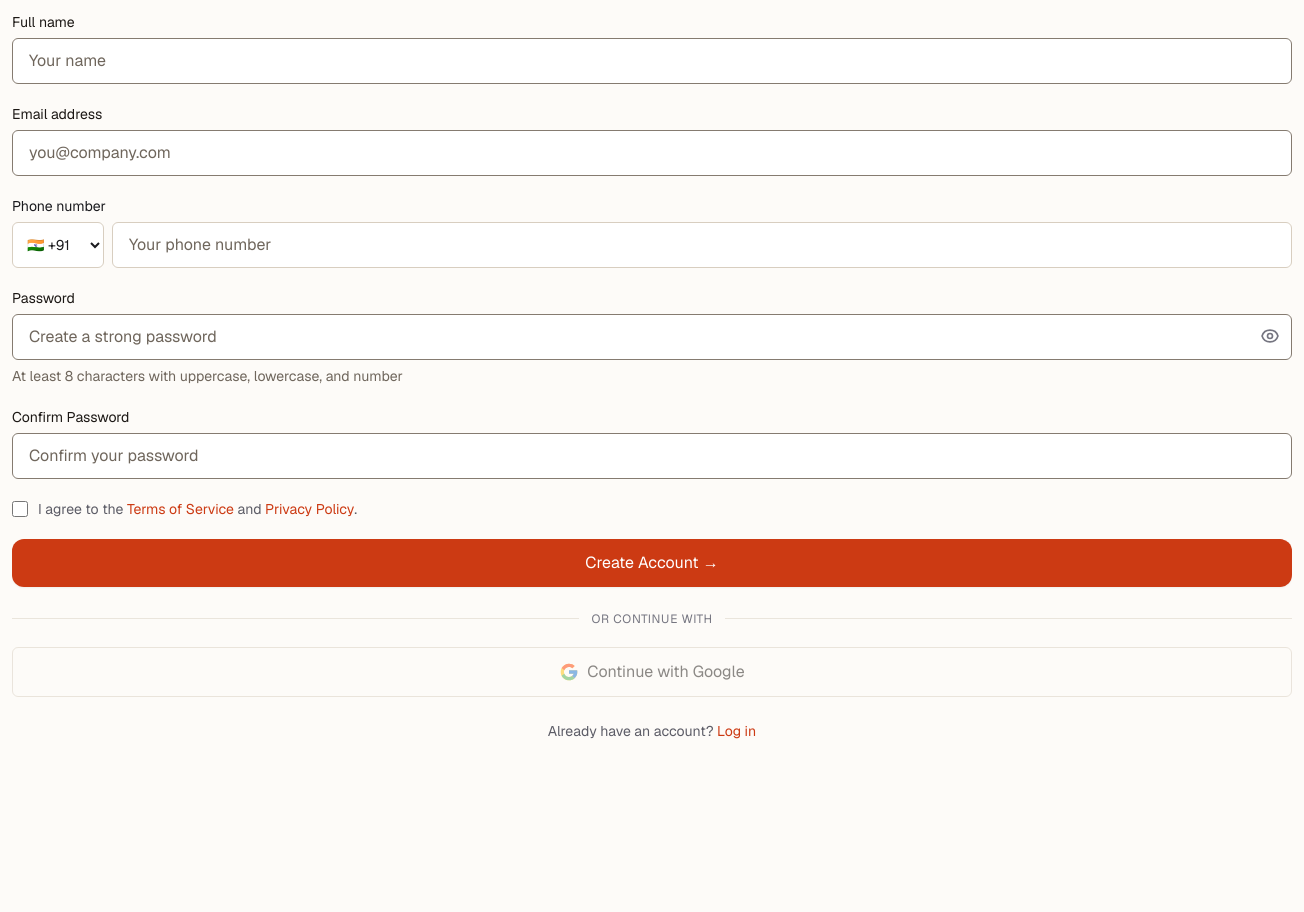
Scenario: SignupForm › shows an auth-failure message and stays on the form when the signup service rejects
The width and height of the screenshot is (1304, 912).
Type "owner@example.com" into the field labelled "Email address" at coordinates (652, 153), box [12,130,1292,176]
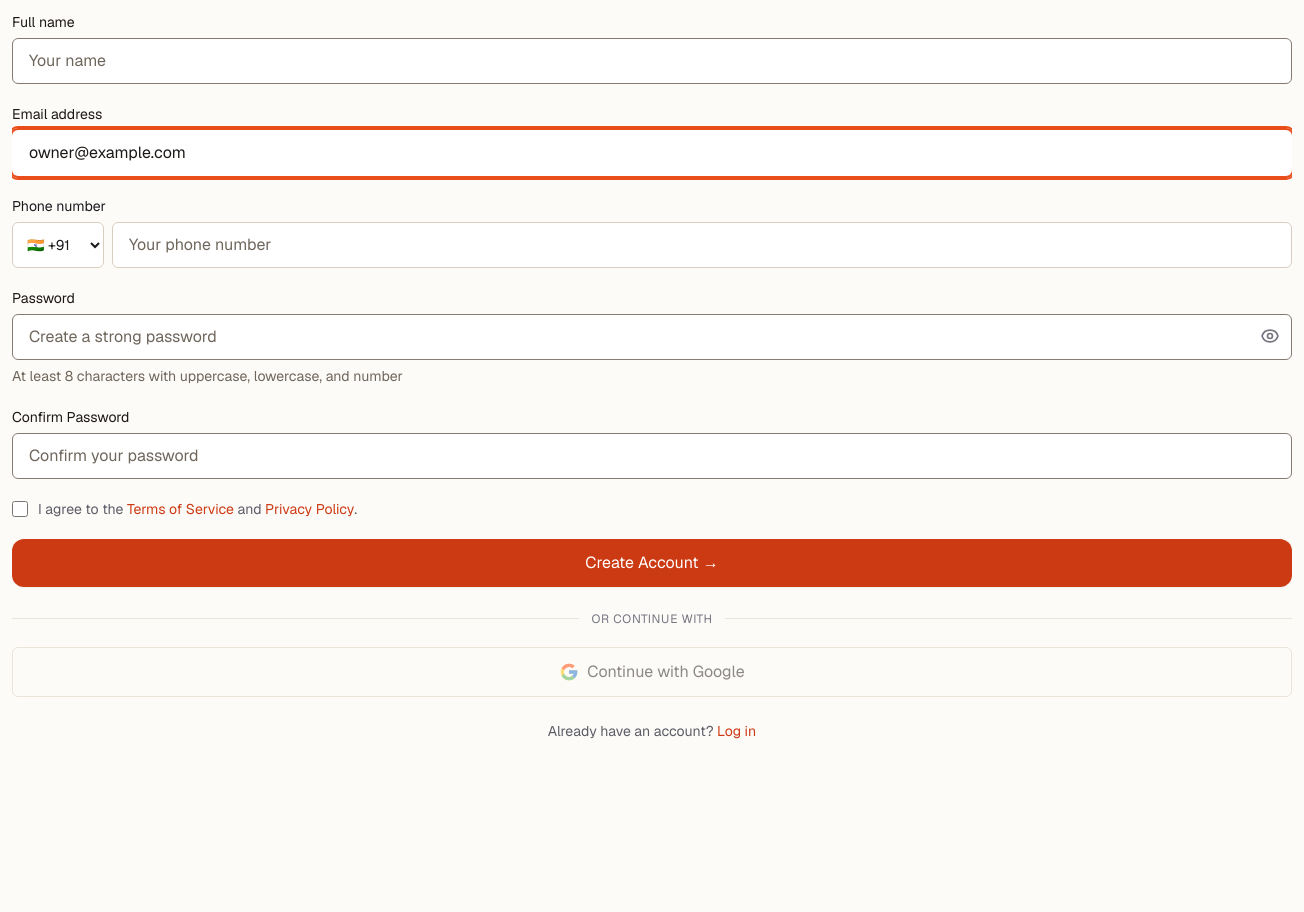
Type "Password1" into the password field labelled "Password" at coordinates (652, 337), box [12,314,1292,360]
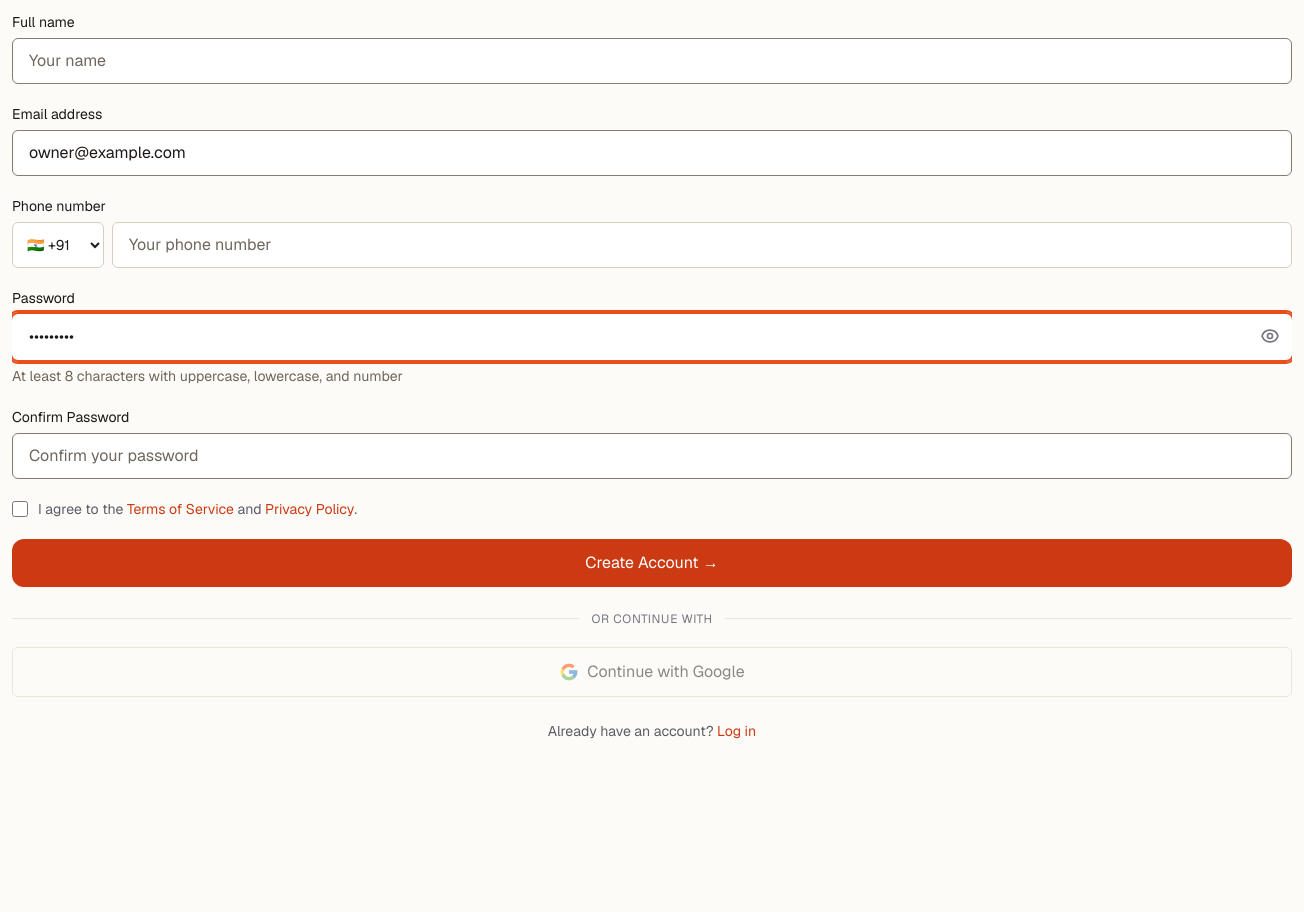
Type "Password1" into the password field labelled "Confirm Password" at coordinates (652, 456), box [12,433,1292,479]
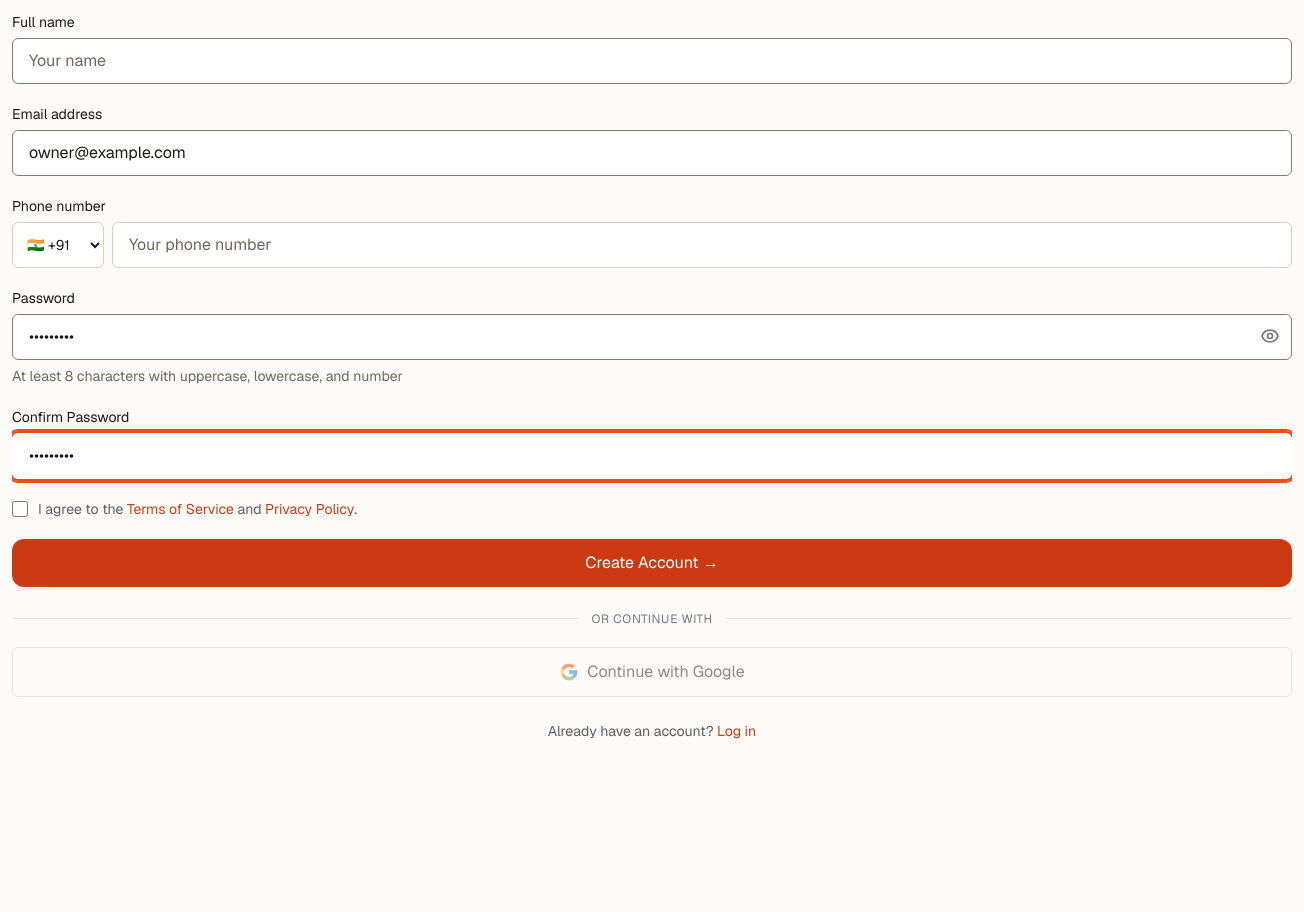
Click the checkbox at coordinates (20, 509), box [12,501,28,517]
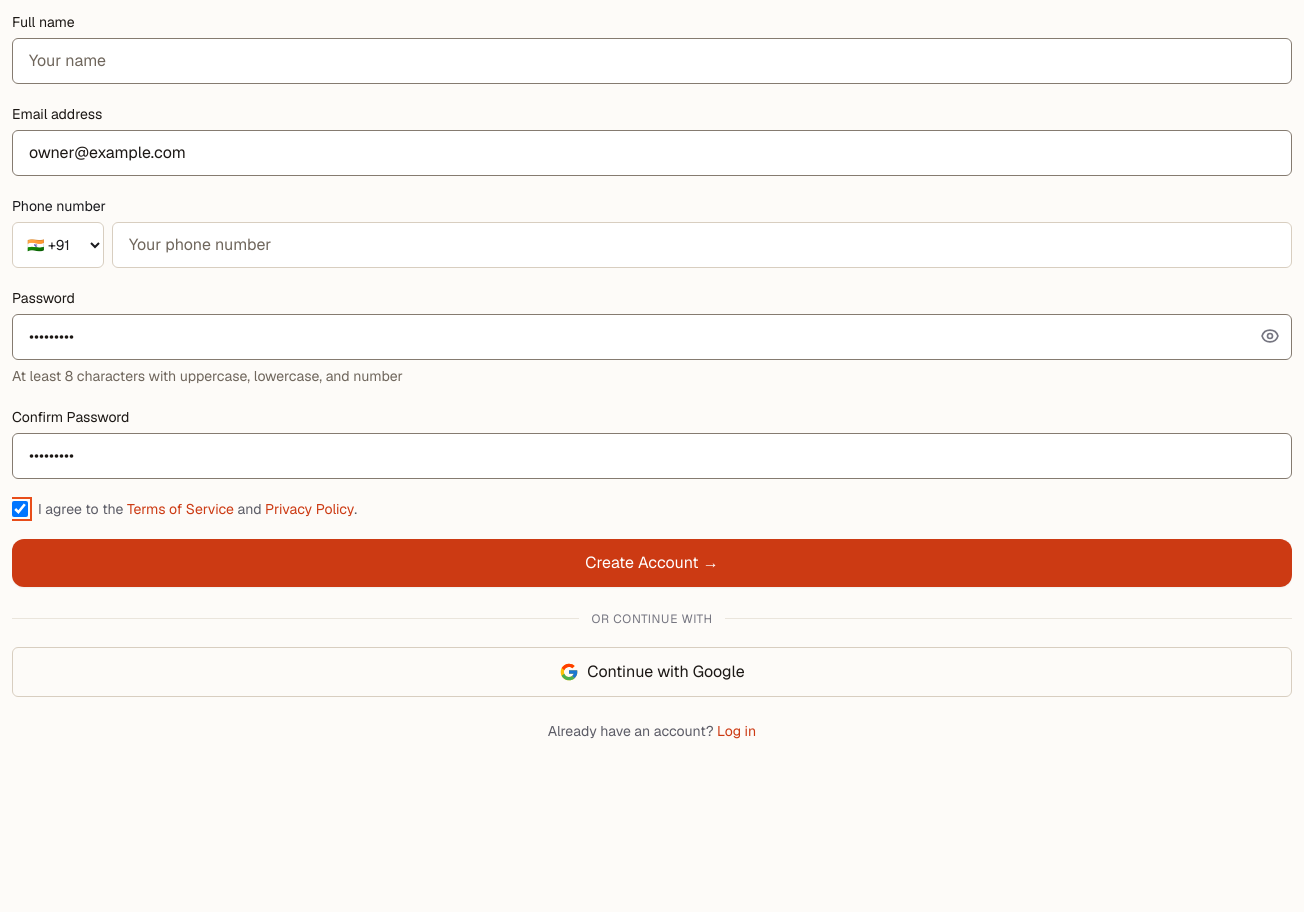
Click the button "Create Account →" at coordinates (652, 563), box [12,539,1292,587]
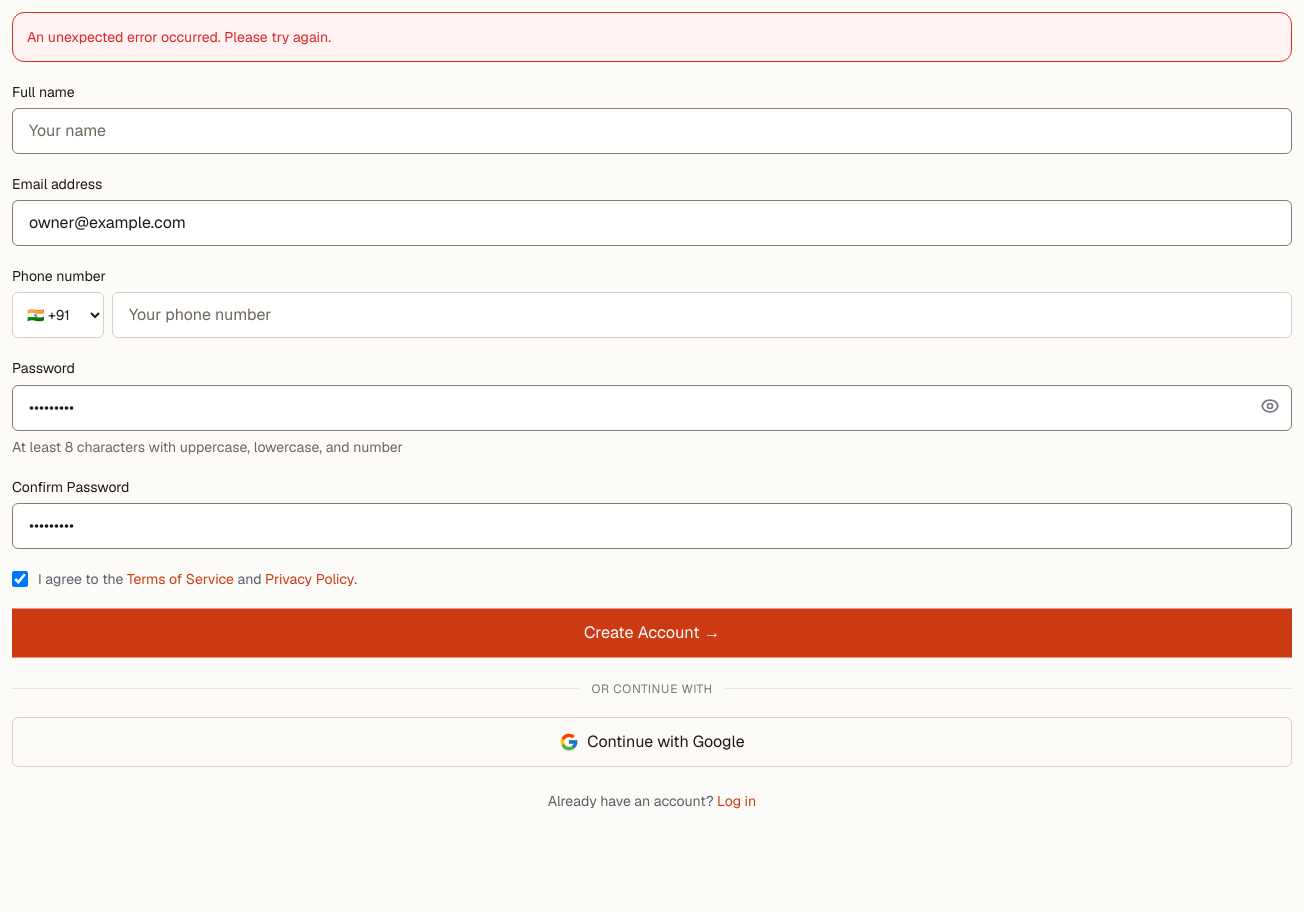
Expected: the message "An unexpected error occurred. Please try again." is shown, [12,12,1292,62]
